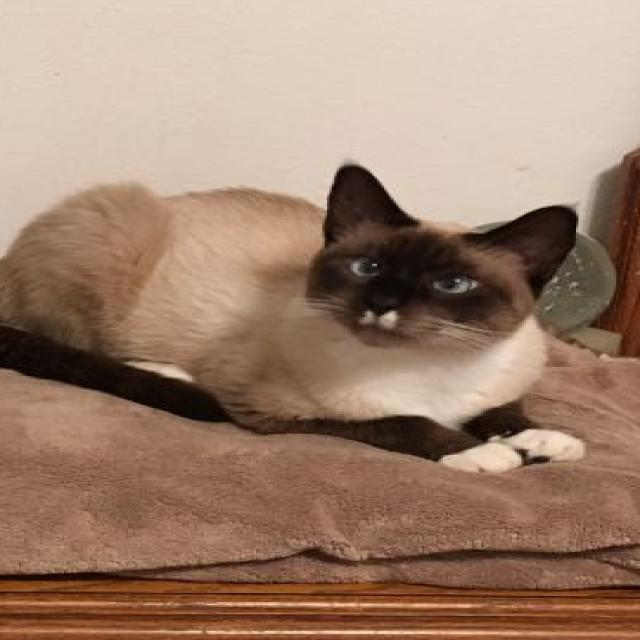Siamese: (0, 158, 595, 480)
